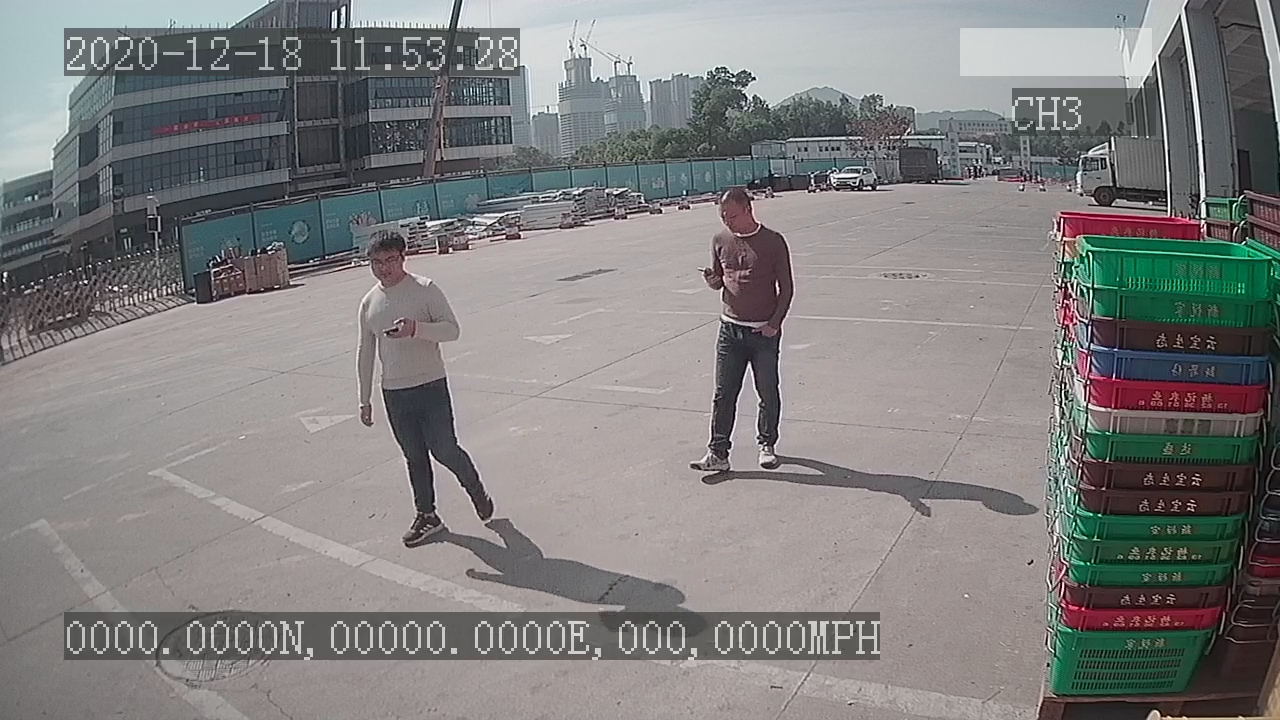person: (347, 227, 504, 549), (681, 183, 797, 485)
